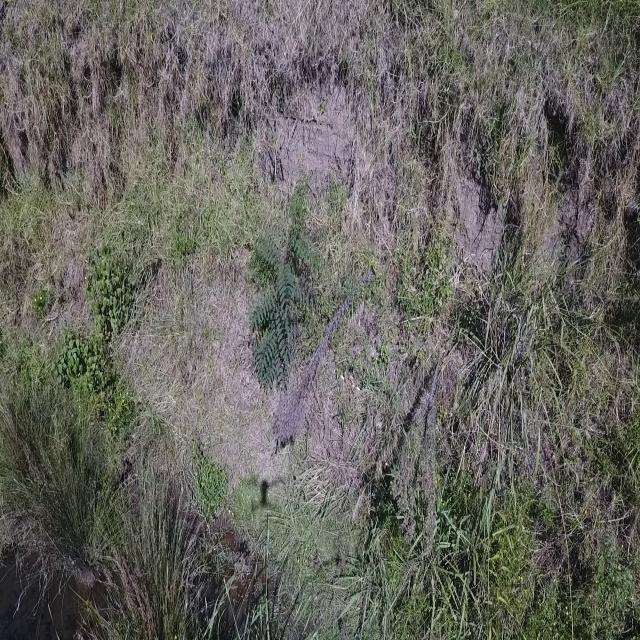Mysore-Thorn-Weed: (249, 180, 318, 393)
